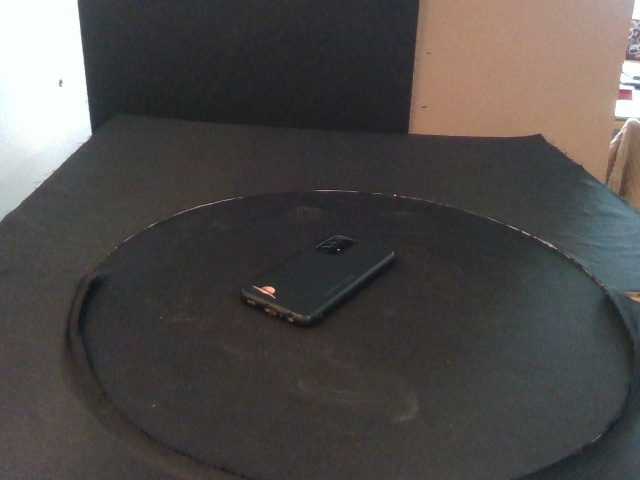phone: (241, 231, 395, 326)
